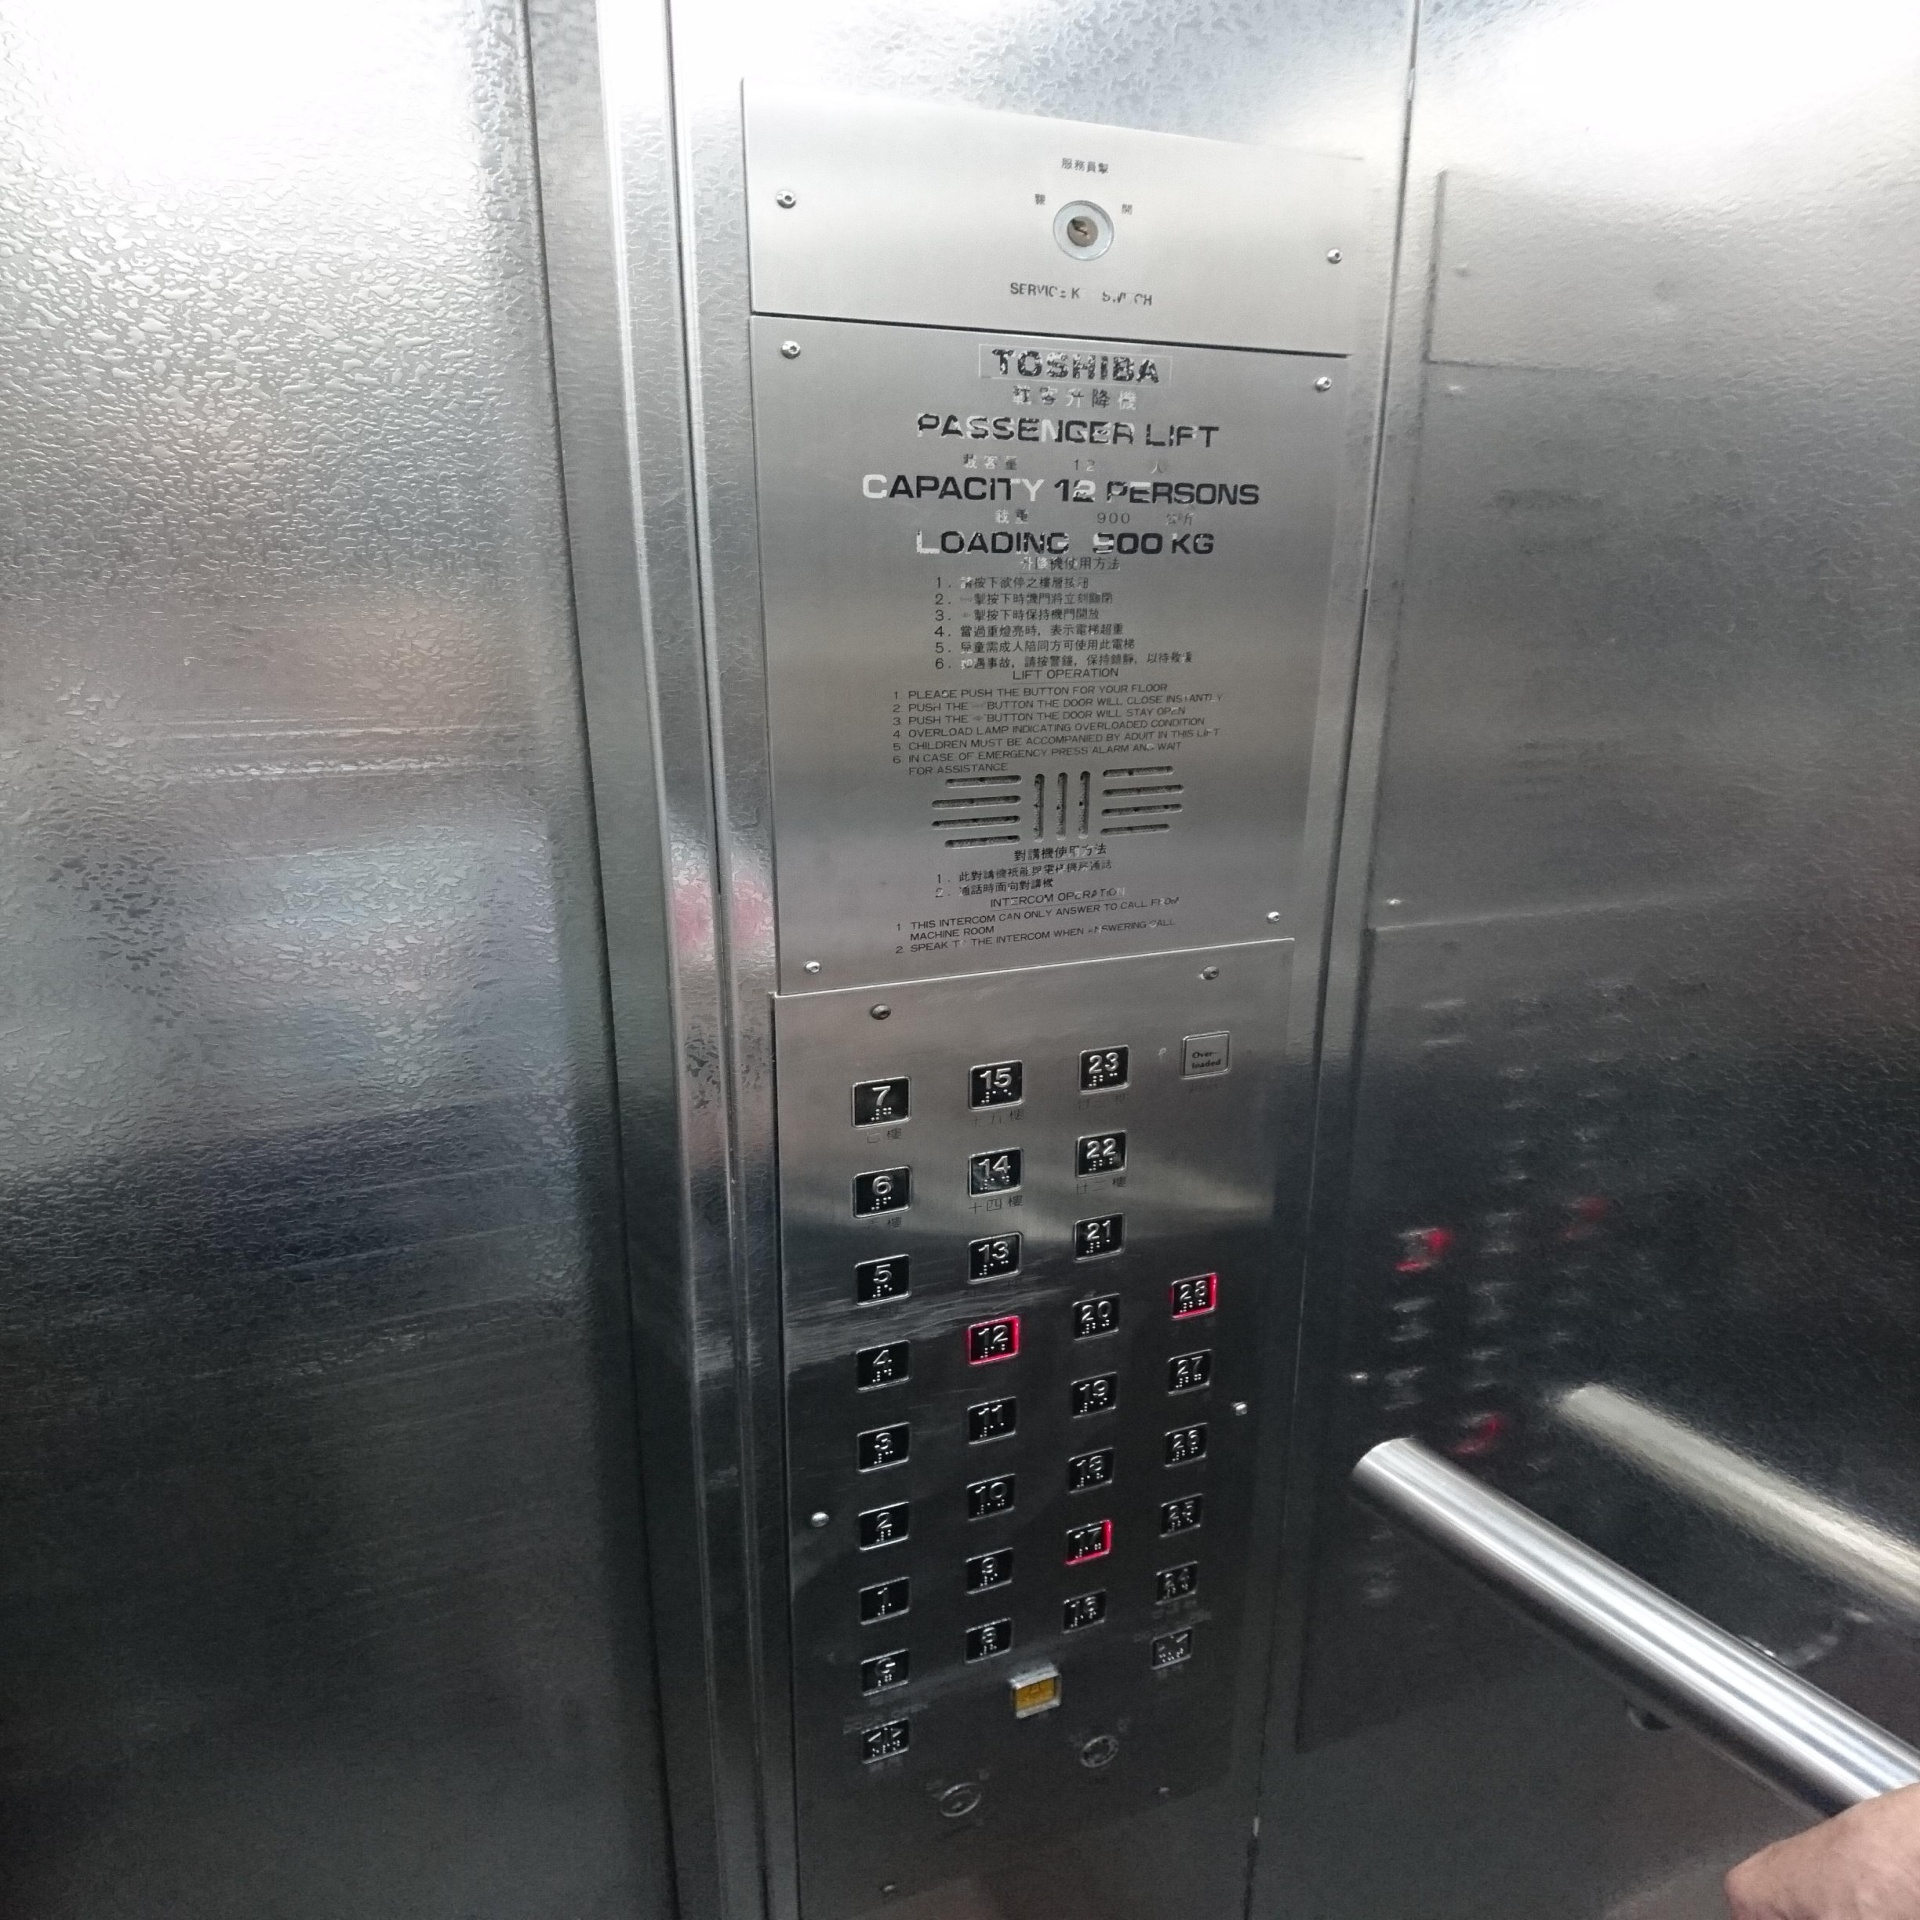1: (856, 1574, 916, 1630)
10: (964, 1472, 1020, 1524)
11: (964, 1393, 1022, 1449)
12: (965, 1313, 1022, 1366)
13: (965, 1231, 1023, 1285)
14: (967, 1146, 1029, 1203)
15: (965, 1057, 1027, 1113)
16: (1058, 1588, 1108, 1639)
17: (1064, 1517, 1113, 1568)
18: (1065, 1445, 1118, 1498)
19: (1067, 1370, 1120, 1422)
2: (855, 1496, 914, 1553)
20: (1069, 1291, 1124, 1347)
21: (1073, 1210, 1129, 1264)
22: (1074, 1125, 1129, 1182)
23: (1078, 1043, 1132, 1097)
24: (1153, 1558, 1203, 1609)
25: (1159, 1491, 1208, 1542)
26: (1160, 1421, 1210, 1472)
27: (1164, 1347, 1213, 1400)
28: (1167, 1268, 1218, 1320)
3: (853, 1421, 913, 1475)
4: (853, 1338, 913, 1394)
5: (853, 1252, 914, 1308)
6: (849, 1166, 913, 1224)
7: (849, 1073, 913, 1131)
8: (962, 1614, 1016, 1669)
9: (962, 1544, 1016, 1598)
G: (856, 1647, 914, 1698)
alarm: (1007, 1662, 1064, 1721)
close: (1146, 1625, 1196, 1670)
open: (860, 1716, 913, 1765)
text_overload: (1180, 1027, 1234, 1085)
